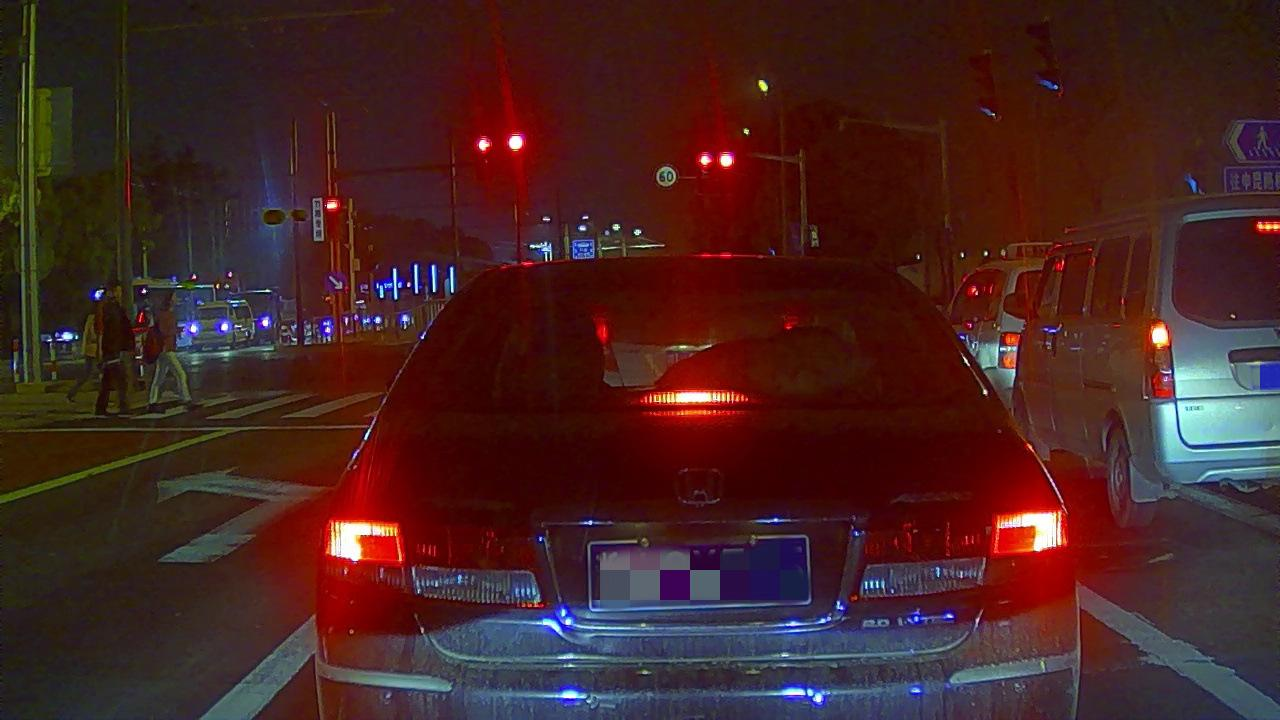traffic_light: (510, 134, 524, 150), (720, 153, 733, 169), (477, 135, 490, 150), (698, 153, 711, 166)
